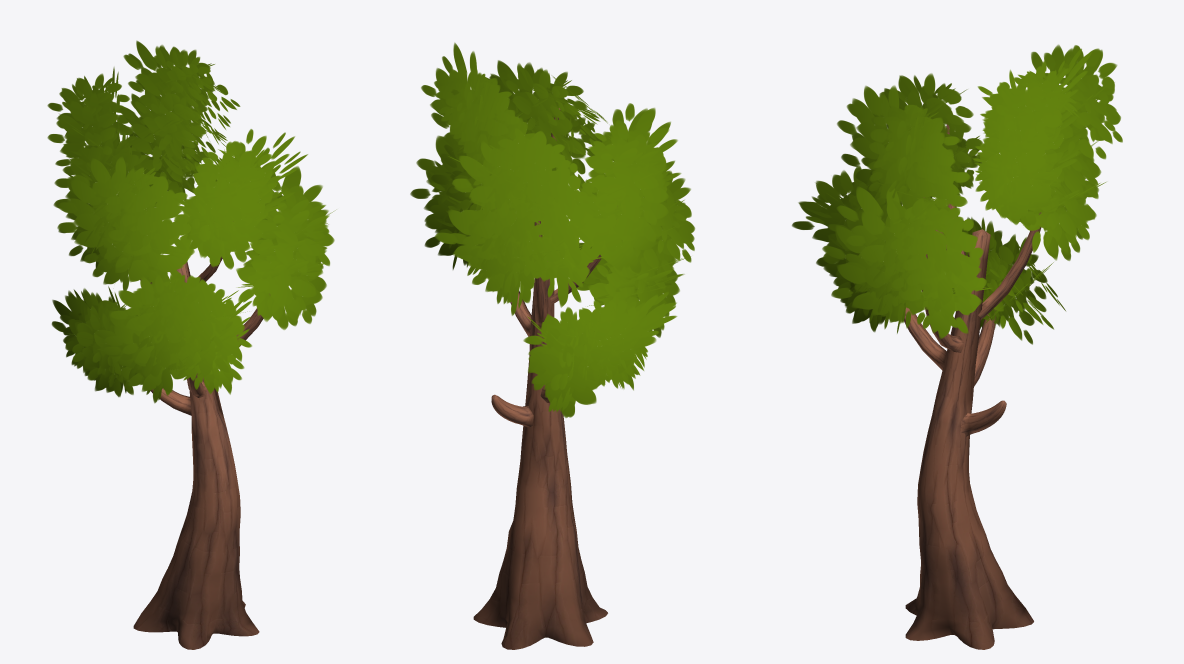
File: tree-t9kbsfydxz-transformed.glb
3 renders of one model, left to right at view 1: azimuth 30°, elevation 25°; view 2: azimuth 150°, elevation 25°; view 3: azimuth 270°, elevation 25°, orthographic. The views are drawn at different scales.
Visible parts, largest first — view 1: CommonTree_5; view 2: CommonTree_5; view 3: CommonTree_5.
Part boxes in pixels (left/top/right/bottom): CommonTree_5: left=47, top=40, right=335, bottom=649; CommonTree_5: left=410, top=42, right=694, bottom=649; CommonTree_5: left=792, top=44, right=1122, bottom=649.
Bounding box in the file's own units: 3.67 × 7.01 × 4.22.
Materials: 2 (2 with a texture image).
